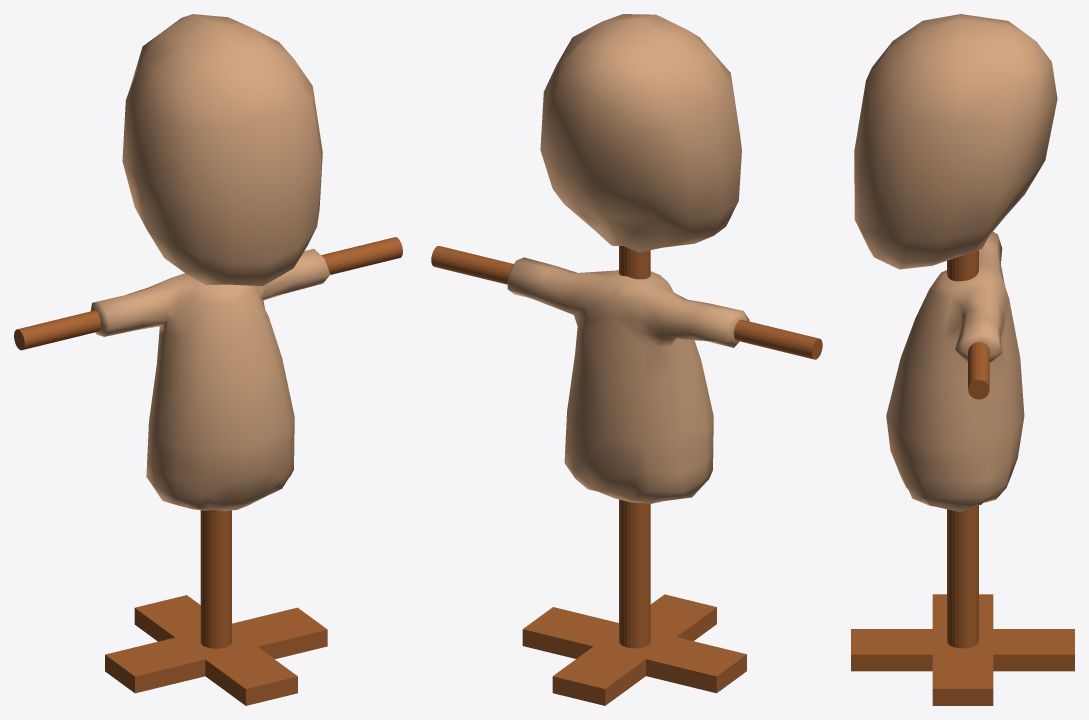
Rendered from practice-dummy.fbx.
3 renders of one model, left to right at view 1: azimuth 30°, elevation 25°; view 2: azimuth 150°, elevation 25°; view 3: azimuth 270°, elevation 25°, orthographic.
Parts seen in each view (by area): view 1: Body01, Cube, Cube.001, Cylinder, Cylinder.001; view 2: Body01, Cube, Cube.001, Cylinder, Cylinder.001; view 3: Body01, Cube.001, Cylinder, Cube, Cylinder.001.
Boxes of the visible parts, box(x1,y1,x2,y2) form: Body01: box(90, 14, 330, 511); Cube: box(105, 607, 327, 693); Cube.001: box(134, 595, 297, 705); Cylinder: box(200, 509, 231, 648); Cylinder.001: box(14, 237, 402, 350); Body01: box(507, 14, 749, 504); Cube: box(522, 607, 746, 693); Cube.001: box(552, 594, 716, 705); Cylinder: box(619, 246, 650, 648); Cylinder.001: box(431, 246, 822, 359); Body01: box(854, 14, 1057, 511); Cube.001: box(851, 629, 1074, 671); Cylinder: box(947, 250, 978, 648); Cube: box(932, 594, 993, 705); Cylinder.001: box(968, 342, 989, 399).
Bounding box in the file's own units: 130 × 208 × 66.23.
